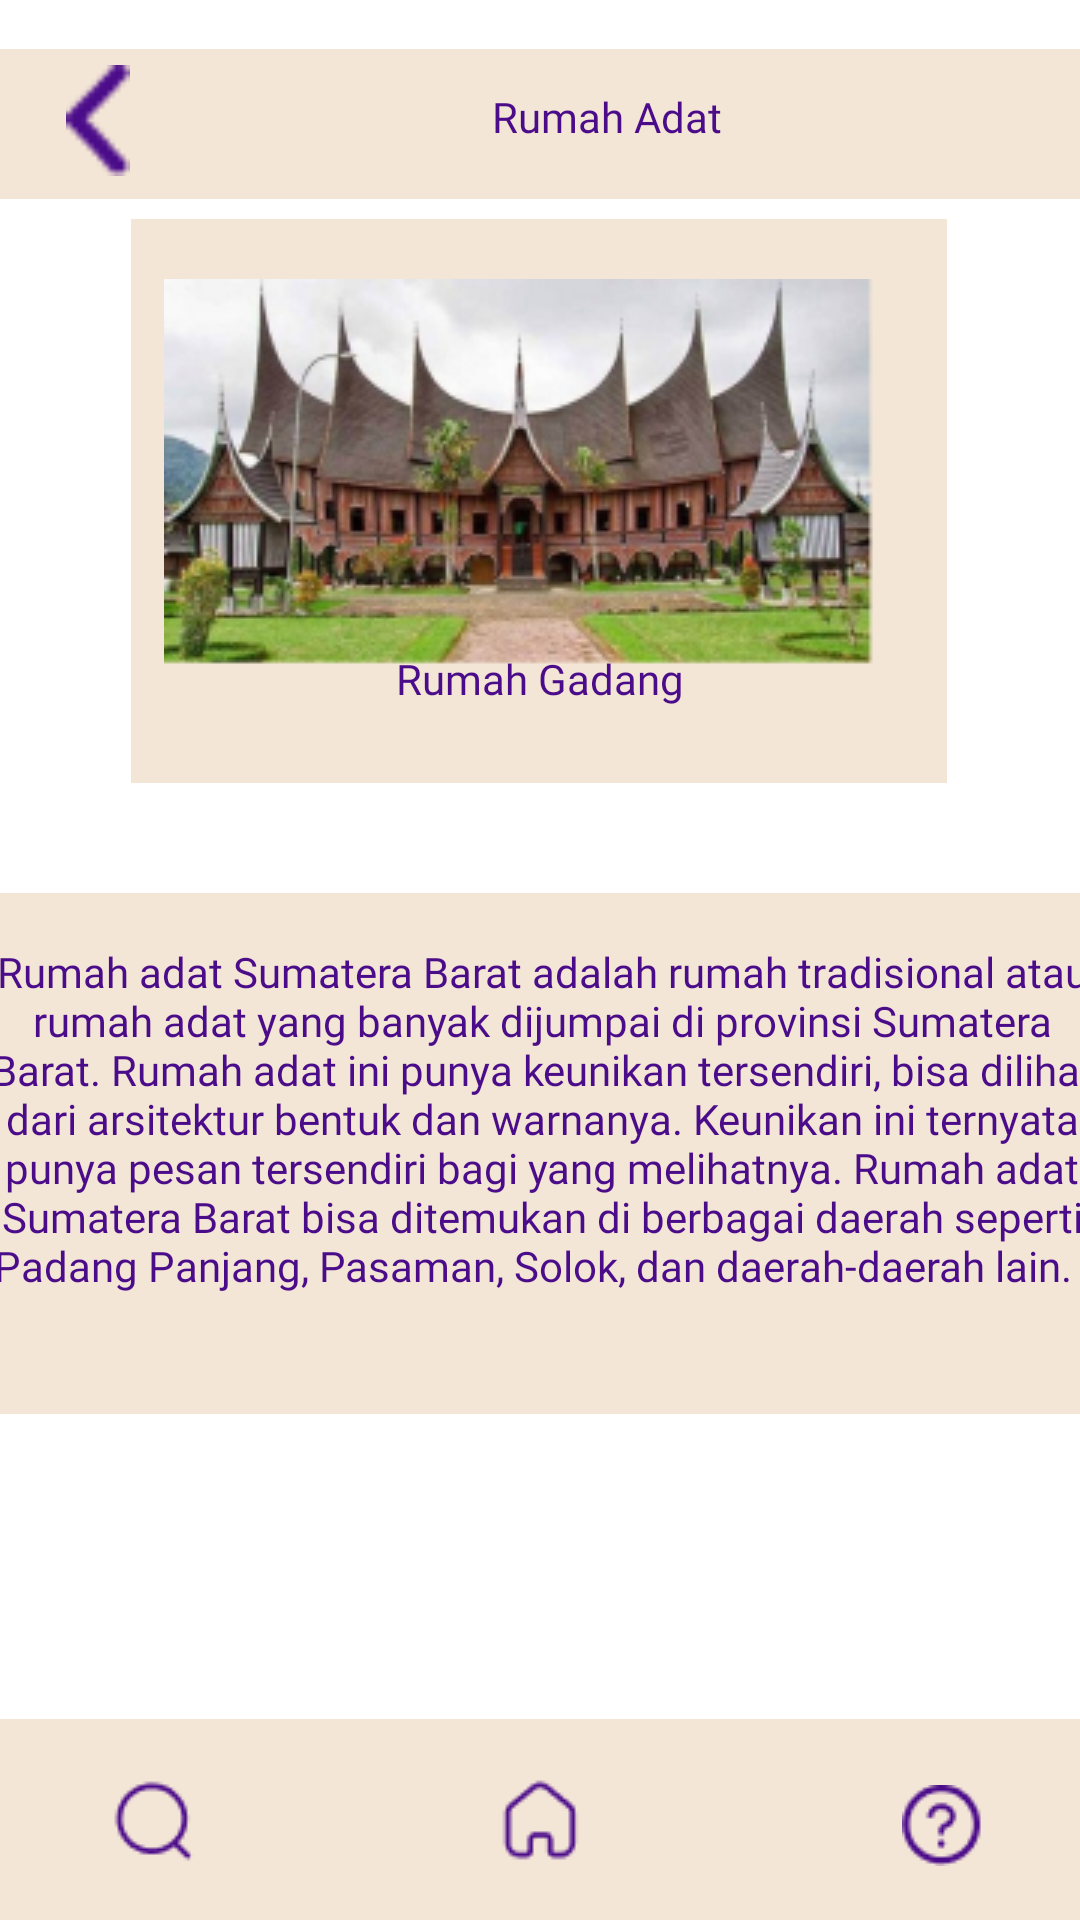

Screen size 1080px×1920px. Icon name, then its center in pixels as [x,y]:
homeee: [540,1820]
tanya: [941,1825]
xearch: [152,1821]
